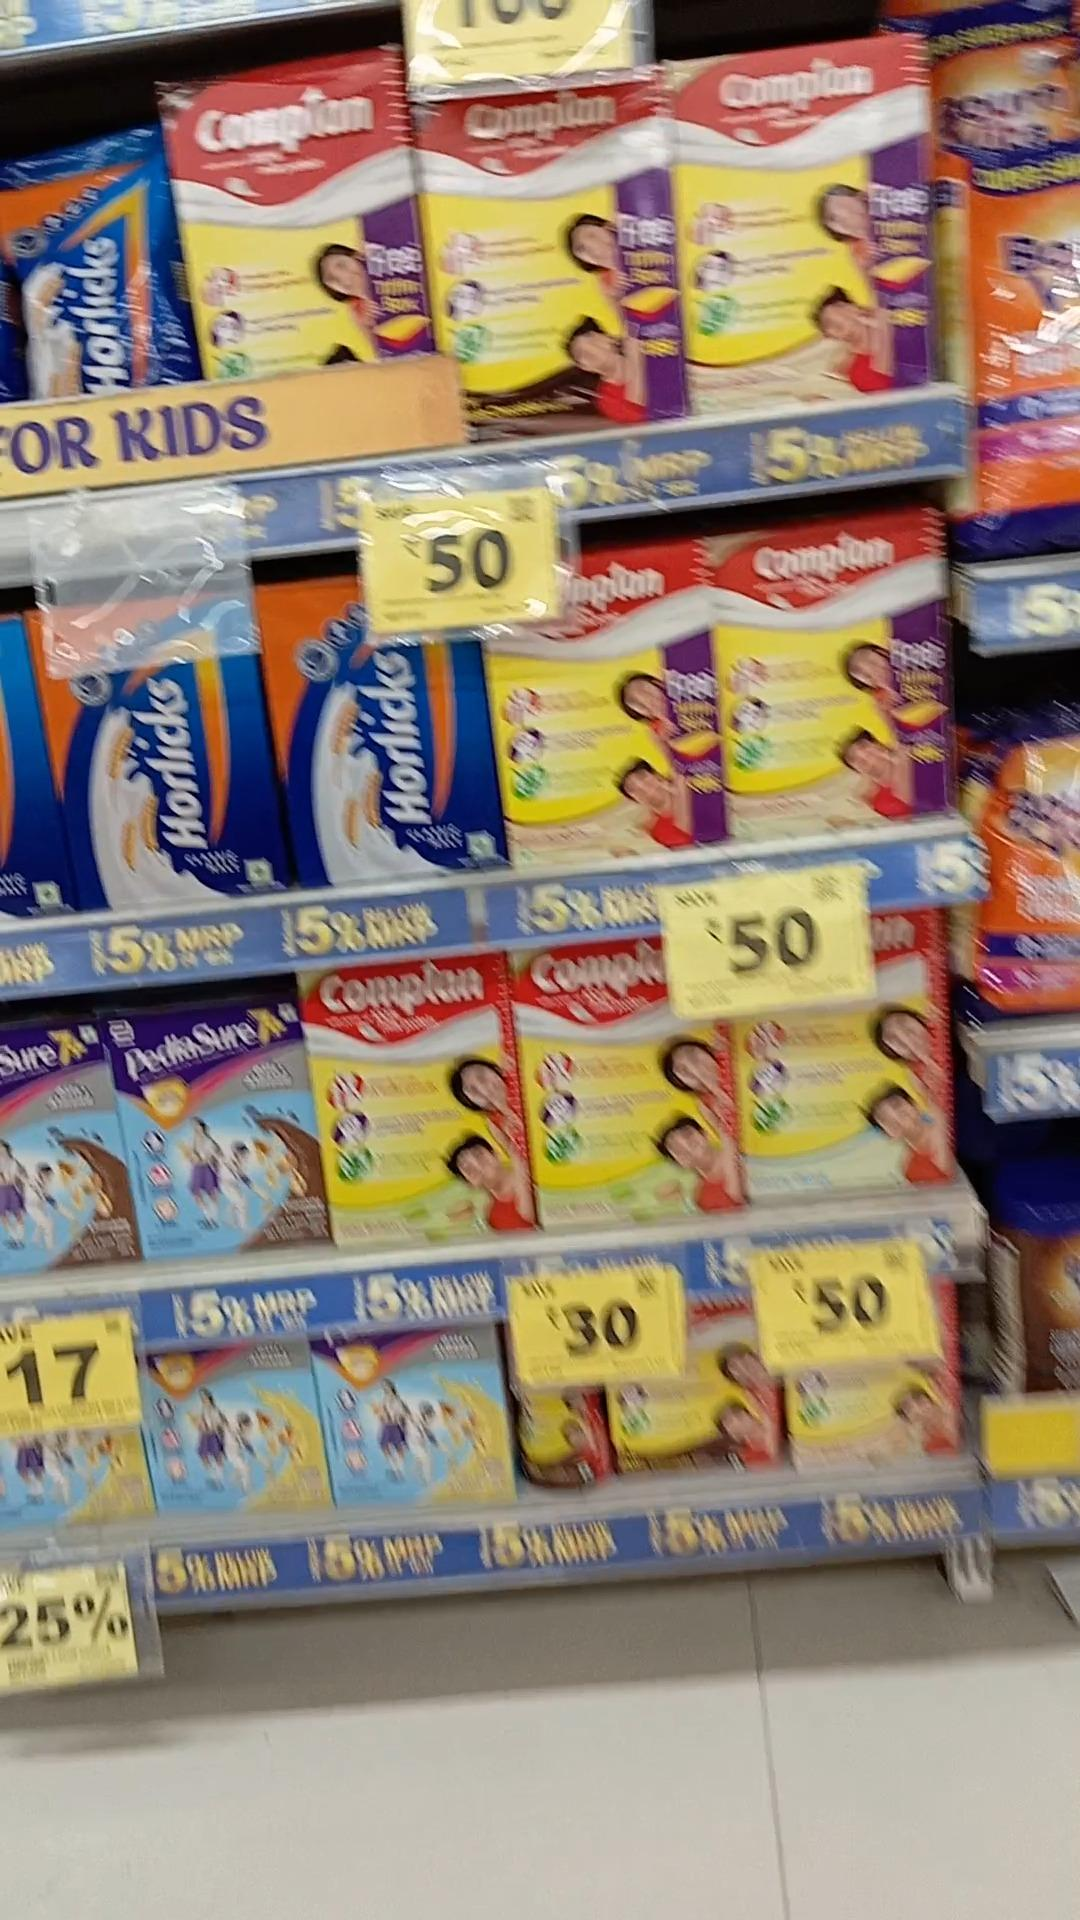COMPLAN_CHOCOLATE_500_GMS_PACK: (418, 82, 682, 434), (178, 59, 411, 367)
COMPLAN_KESAR_BADAM_500_GMS_PACK: (683, 40, 939, 413), (717, 501, 948, 839), (508, 531, 709, 865)
COMPLAN_PISTA_BADAM_500_GMS_PACK: (531, 943, 745, 1240), (318, 960, 525, 1250)
HORLICK_CLASSIC_MALT_500_G_PACK: (285, 568, 502, 878), (44, 612, 276, 901)
